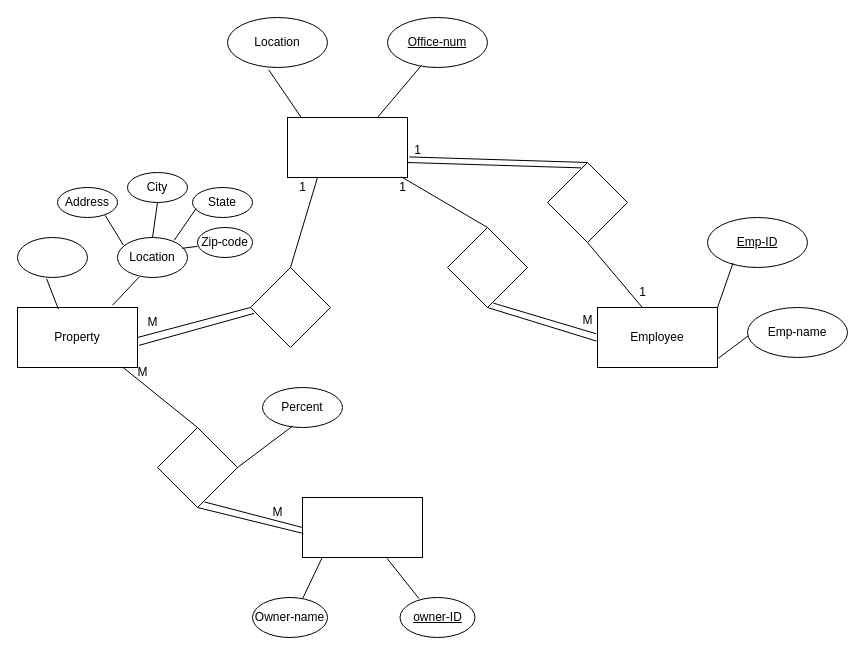
The diagram is 865 pixels wide and 655 high, and some of its shapes have lost their labels. Each missing label, with the box of its shape:
Has: (156, 426, 238, 508)
List: (250, 266, 330, 348)
manage: (546, 162, 628, 242)
Owner: (302, 496, 422, 558)
Property-ID: (16, 236, 88, 278)
Sales Office: (286, 116, 408, 178)
Work: (446, 226, 528, 308)
